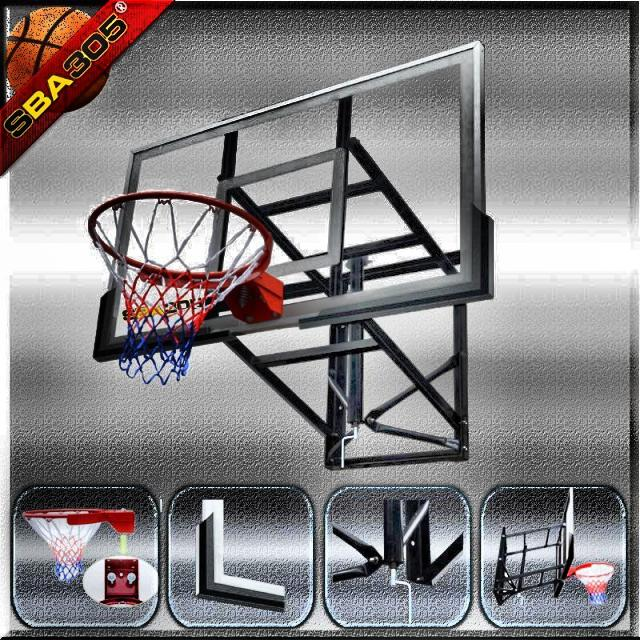rim: (88, 191, 270, 384)
